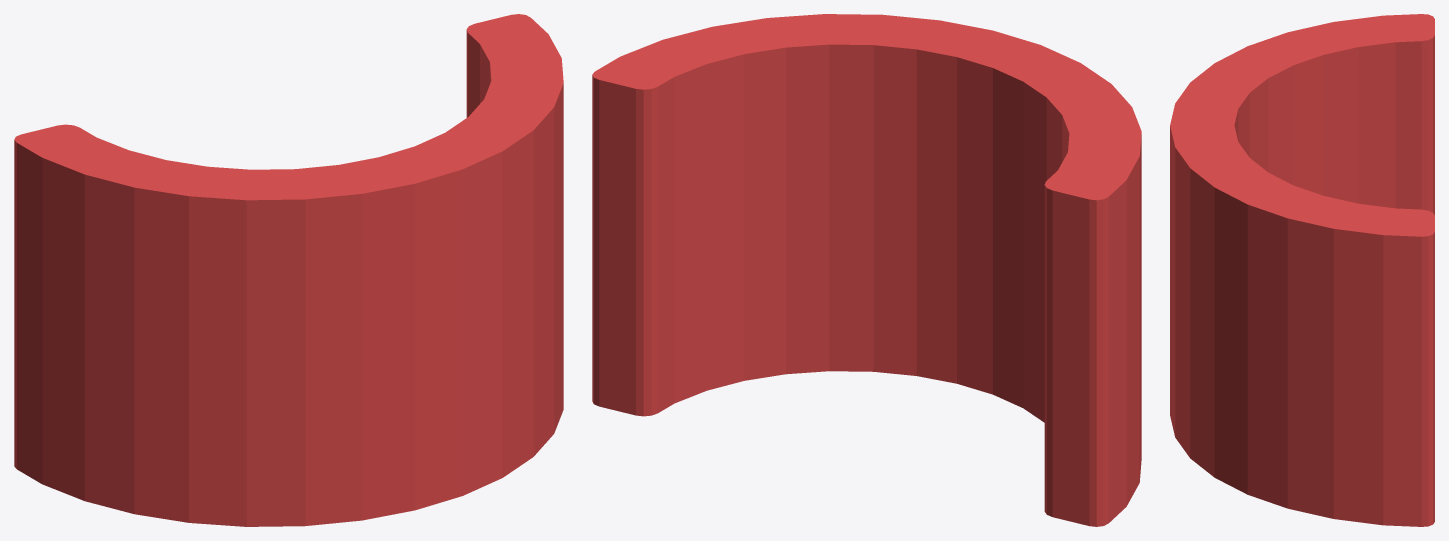
Rendered from aquapark 1.fbx.
3 views of the same model, side by side, from view 1: azimuth 30°, elevation 25°; view 2: azimuth 150°, elevation 25°; view 3: azimuth 270°, elevation 25° (orthographic). The views are drawn at different scales.
Visible parts, largest first — view 1: Circle; view 2: Circle; view 3: Circle.
Boxes of the visible parts, left/top/right/bottom form: Circle: left=14, top=14, right=563, bottom=526; Circle: left=592, top=14, right=1141, bottom=526; Circle: left=1170, top=14, right=1434, bottom=526.
Bounding box in the file's own units: 199 × 121 × 100.
